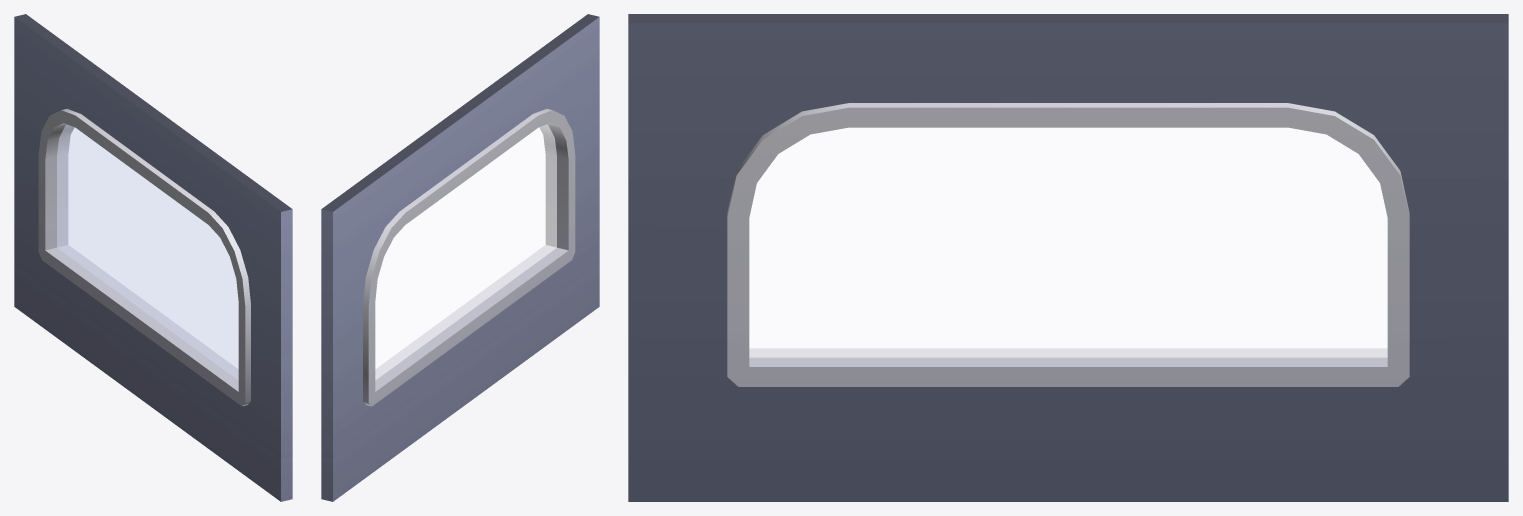
The model's file is kenney-building-wall-window-wide-round.glb.
3 renders of one model, left to right at view 1: azimuth 30°, elevation 25°; view 2: azimuth 150°, elevation 25°; view 3: azimuth 270°, elevation 25°, orthographic. The views are drawn at different scales.
Visible parts, largest first — view 1: wall-window-wide-round, (%ignore); view 2: wall-window-wide-round, (%ignore); view 3: wall-window-wide-round, (%ignore).
Boxes of the visible parts, x1,y1,x2,y2 form: wall-window-wide-round: (14,14,292,501); (%ignore): (57,124,238,380); wall-window-wide-round: (321,14,599,501); (%ignore): (375,124,556,380); wall-window-wide-round: (628,14,1508,501); (%ignore): (749,127,1387,357).
Size of the model in its own units: 0.2002 by 2.4 by 4.
2 materials, 1 textured.
